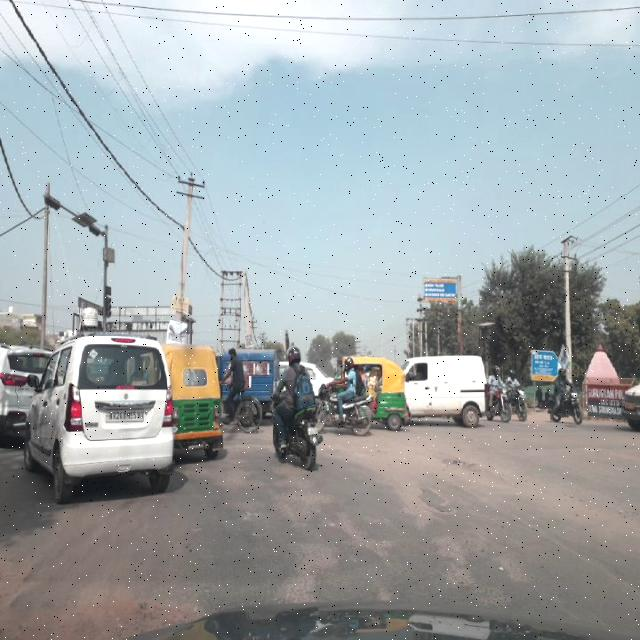D00: (444, 477, 530, 529), (531, 526, 617, 578)
D40: (384, 476, 447, 534), (433, 536, 496, 593)
